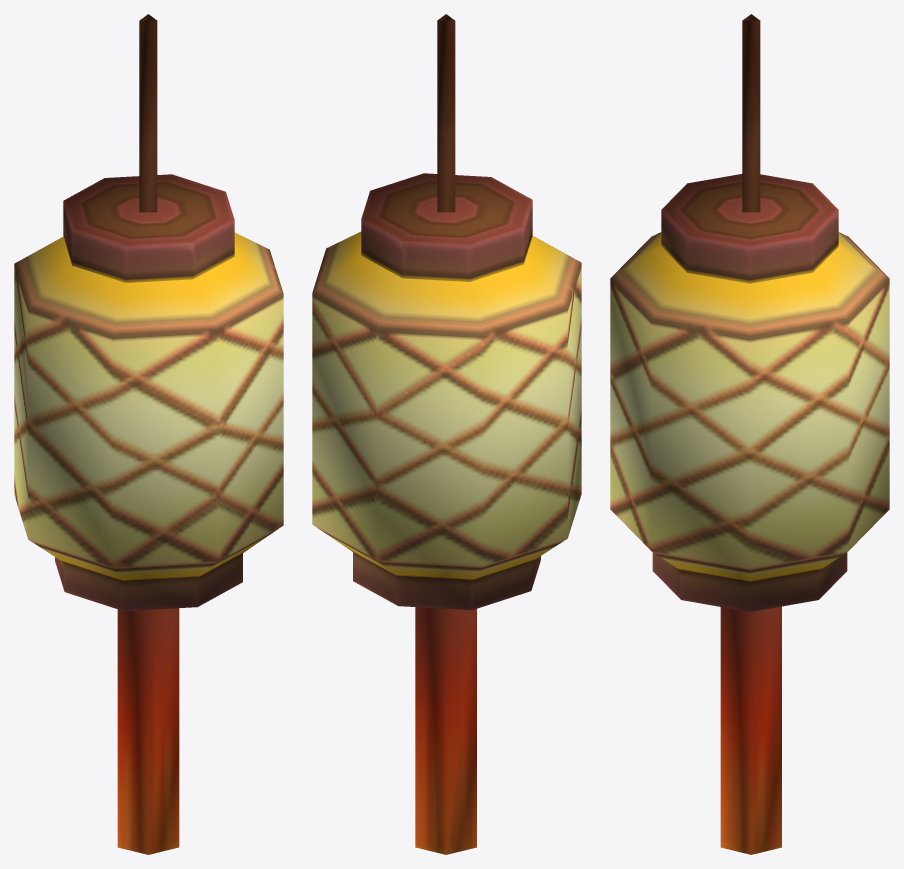
File: deng_long_001.FBX
3 renders of one model, left to right at view 1: azimuth 30°, elevation 25°; view 2: azimuth 150°, elevation 25°; view 3: azimuth 270°, elevation 25°, orthographic.
Parts seen in each view (by area): view 1: deng_long_001_a01; view 2: deng_long_001_a01; view 3: deng_long_001_a01.
Part boxes in pixels (left/top/right/bottom): deng_long_001_a01: left=14, top=14, right=283, bottom=854; deng_long_001_a01: left=312, top=14, right=581, bottom=854; deng_long_001_a01: left=610, top=14, right=889, bottom=854.
Bounding box in the file's own units: 148 × 481 × 148.
Materials: 1 (1 with a texture image).
